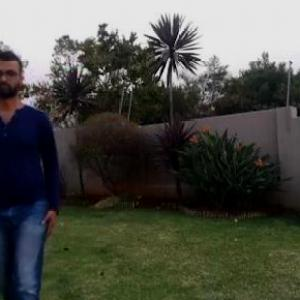follow: (1, 68, 57, 299)
